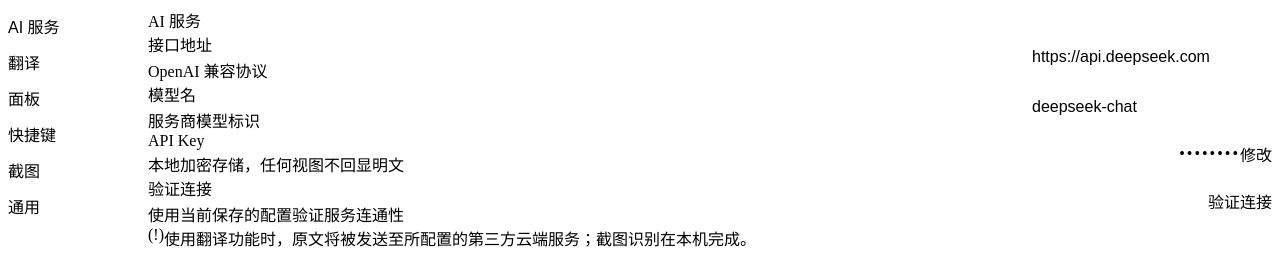
Test: API Key 掩码修改流（7.3 / INV-1） › 允许保存空值（未配置）：清空录入保存 → 掩码空态「未配置」
This screenshot has width=1280, height=264.
Click the button "修改": point(1256, 154) [1240,138,1272,170]
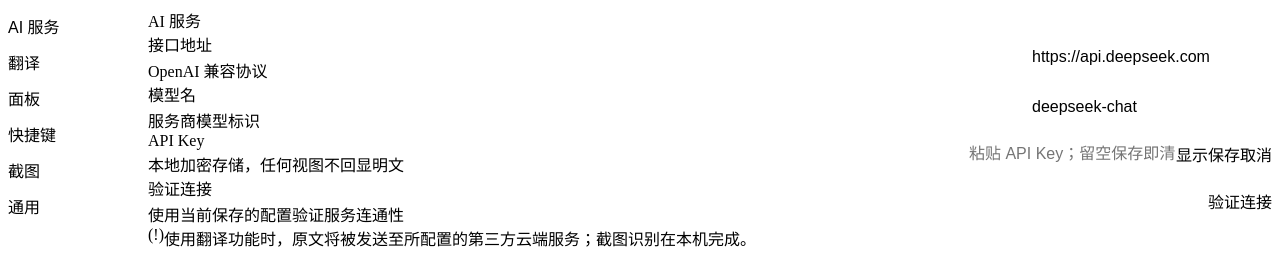
Click the button "保存": point(1224, 154) [1208,138,1240,170]
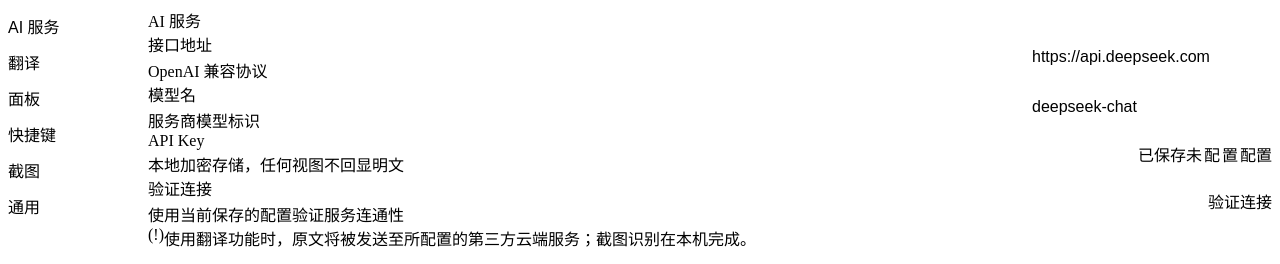
Expected: the text "未配置" is shown, [1186,142,1240,166]
